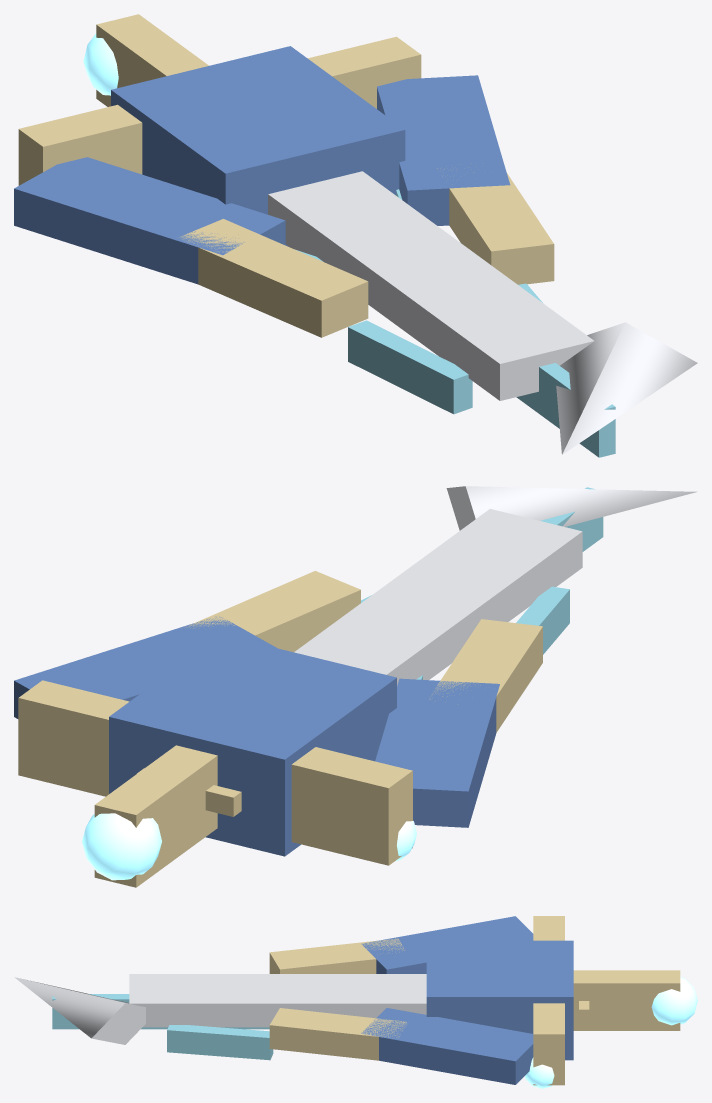
File: aster_right.glb
3 renders of one model, top to bottom at view 1: azimuth 30°, elevation 25°; view 2: azimuth 150°, elevation 25°; view 3: azimuth 270°, elevation 25°, orthographic. The views are drawn at different scales.
Parts seen in each view (by area): view 1: aster_right; view 2: aster_right; view 3: aster_right.
Boxes of the visible parts, x1,y1,x2,y2 form: aster_right: (14, 14, 697, 457); aster_right: (14, 486, 697, 887); aster_right: (14, 916, 697, 1088).
Bounding box in the file's own units: 0.9819 × 0.3 × 1.95.
